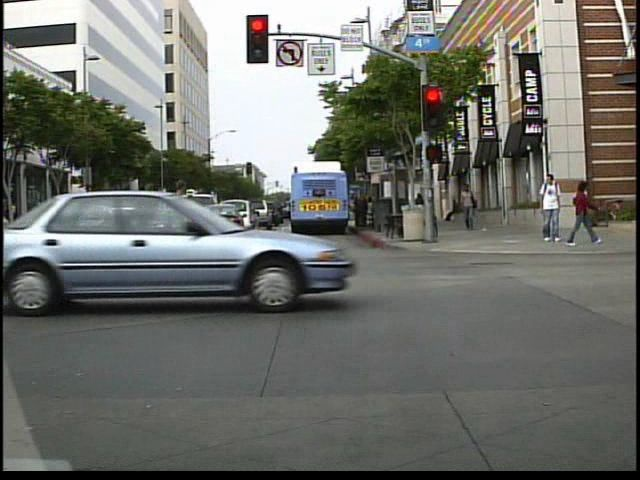person: (567, 176, 598, 247)
